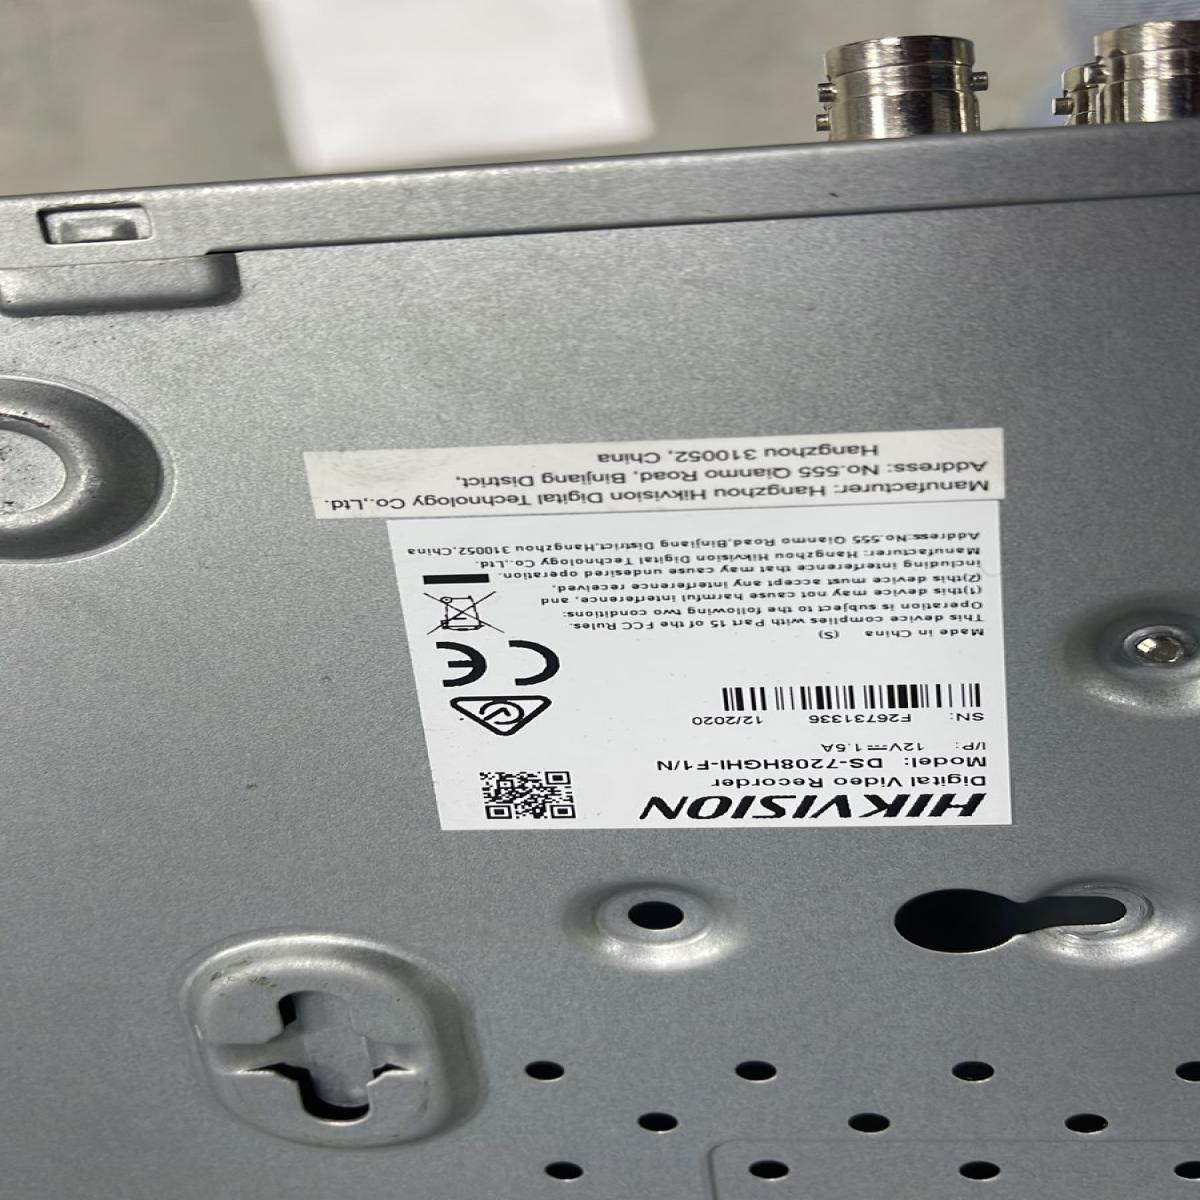Barcode: (713, 681, 989, 712)
Label: (395, 509, 1000, 831)
